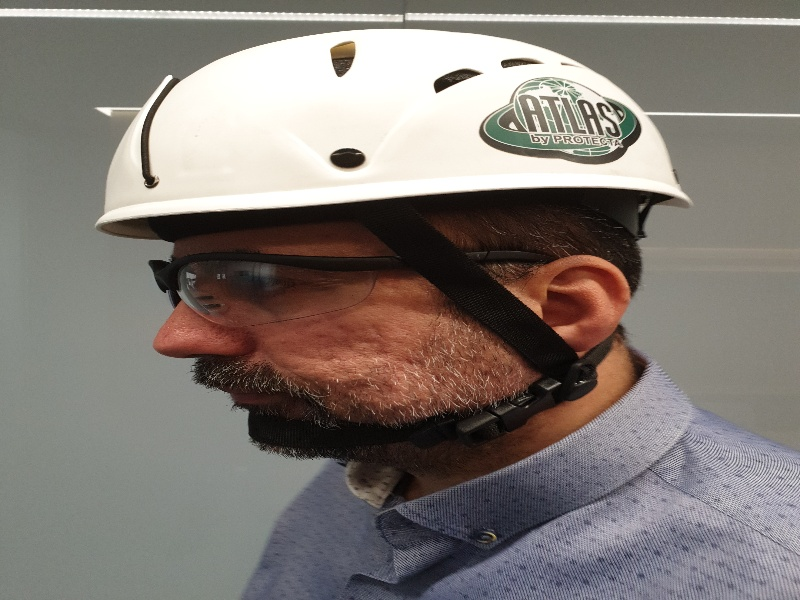Baret: (101, 27, 688, 227)
Gozluk: (150, 252, 567, 329)
